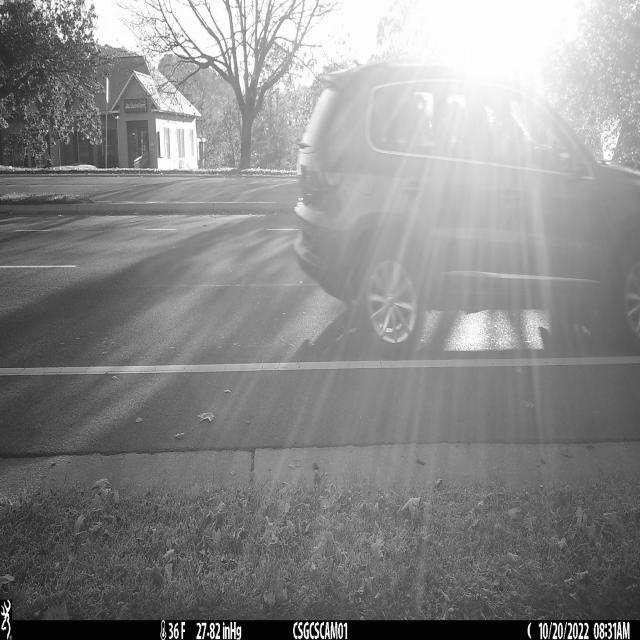SUV: (294, 61, 640, 354)
